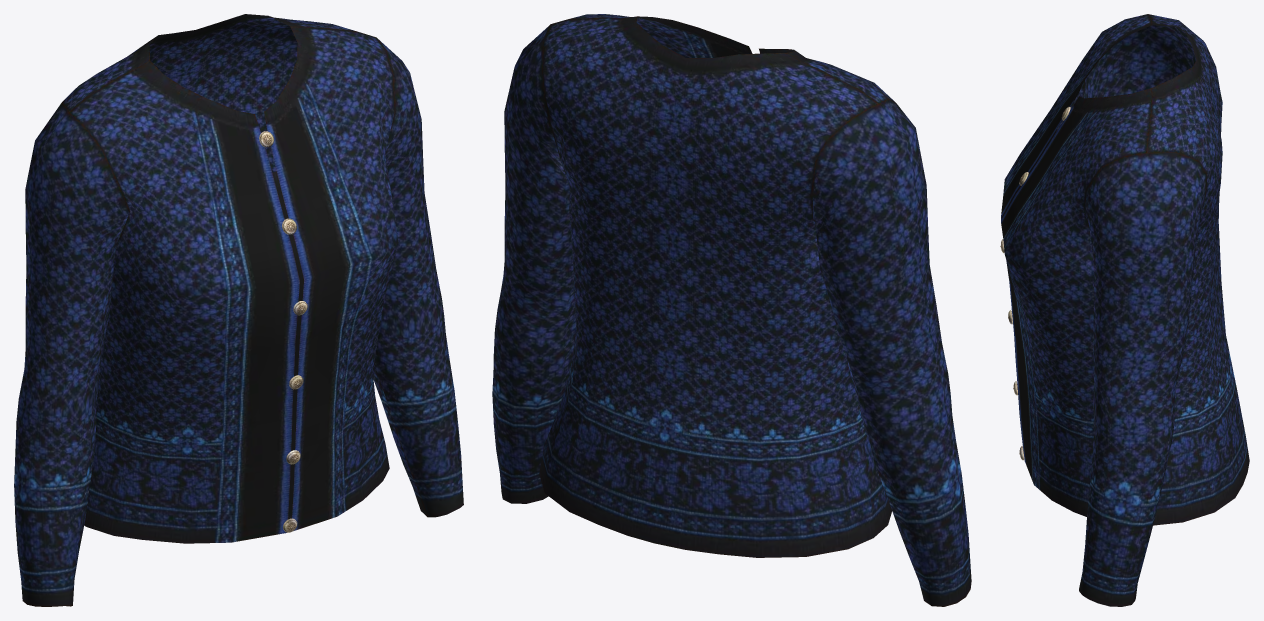
Rendered from mindfront-lusekofta.glb.
The picture shows the model from 3 angles, left to right: view 1: azimuth 30°, elevation 25°; view 2: azimuth 150°, elevation 25°; view 3: azimuth 270°, elevation 25°; orthographic projection. The views are drawn at different scales.
Parts seen in each view (by area): view 1: Human.mindfront_lusekofta; view 2: Human.mindfront_lusekofta; view 3: Human.mindfront_lusekofta.
Boxes of the visible parts, box(x1,y1,x2,y2) form: Human.mindfront_lusekofta: box(14, 14, 463, 606); Human.mindfront_lusekofta: box(492, 14, 971, 606); Human.mindfront_lusekofta: box(1000, 14, 1249, 606).
Size of the model in its own units: 0.51 by 0.5636 by 0.2762.
1 material, 1 textured.
